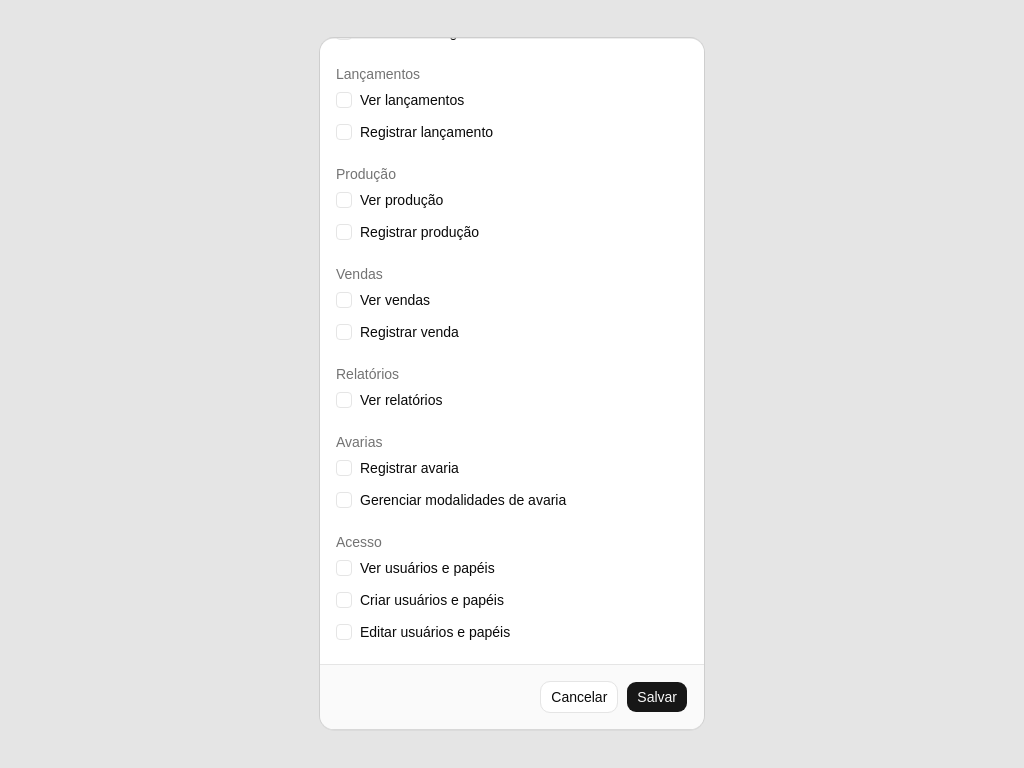
Test: RoleDialog › refuses to submit a role with no name and no permission
This screenshot has width=1024, height=768.
(page scrolled)
Click the button "Salvar": click(657, 697) top-left (626, 681), bottom-right (688, 713)
(page scrolled)
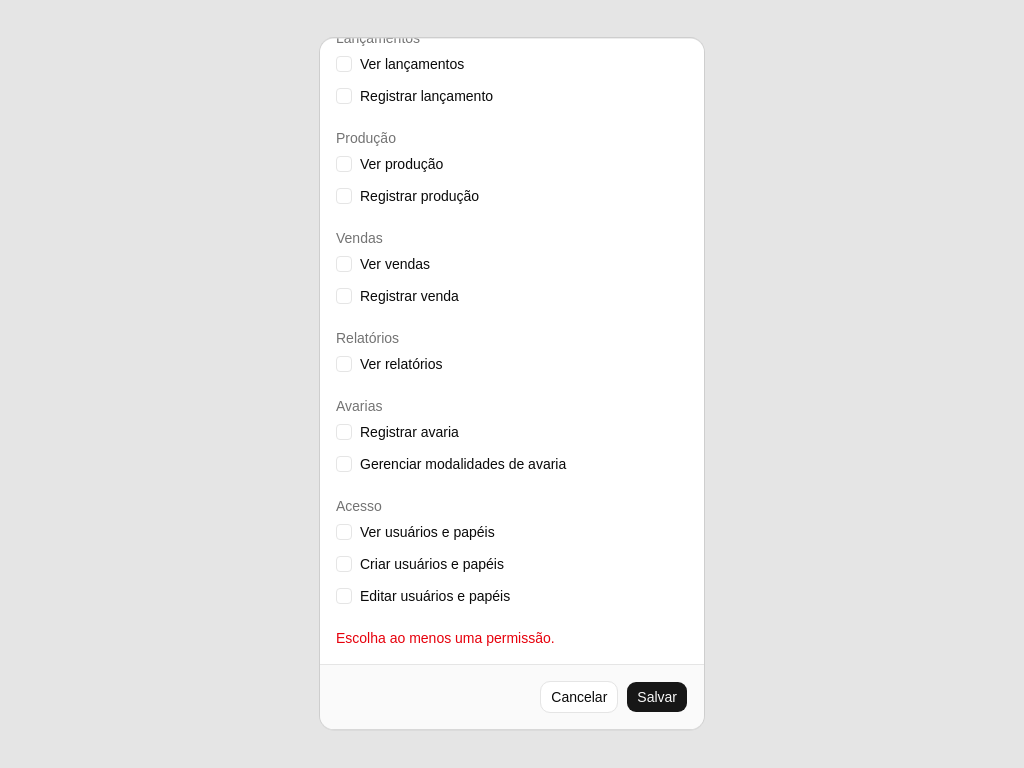
Check: the text "Escolha ao menos uma permissão." is shown, box top-left (336, 630), bottom-right (555, 646)
